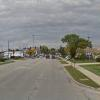Tree: (54, 27, 92, 63)
